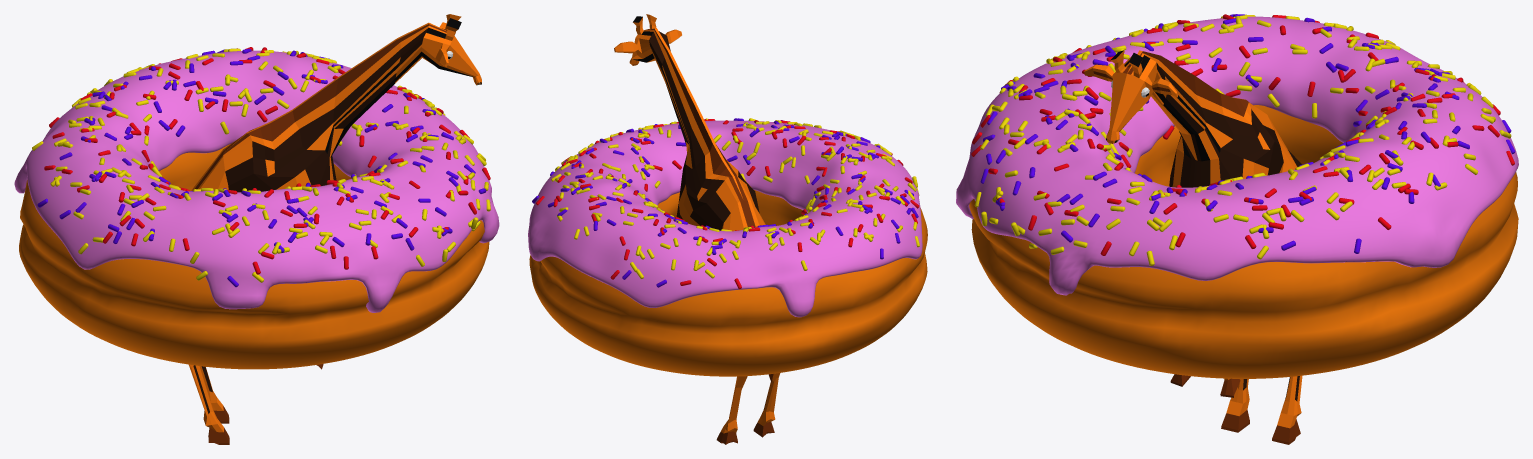
Rendered from giraffe07 - slightly bigger.fbx.
The picture shows the model from 3 angles, left to right: view 1: azimuth 30°, elevation 25°; view 2: azimuth 150°, elevation 25°; view 3: azimuth 270°, elevation 25°; orthographic projection. The views are drawn at different scales.
Visible parts, largest first — view 1: Torus, Giraffe; view 2: Torus, Giraffe; view 3: Torus, Giraffe.
Part boxes in pixels (x1,y1,x2,y2): Torus: (14, 47, 499, 369); Giraffe: (188, 14, 481, 444); Torus: (528, 118, 927, 376); Giraffe: (614, 14, 780, 444); Torus: (956, 14, 1518, 378); Giraffe: (1084, 50, 1302, 444).
Bounding box in the file's own units: 7681 × 7473 × 7951.
